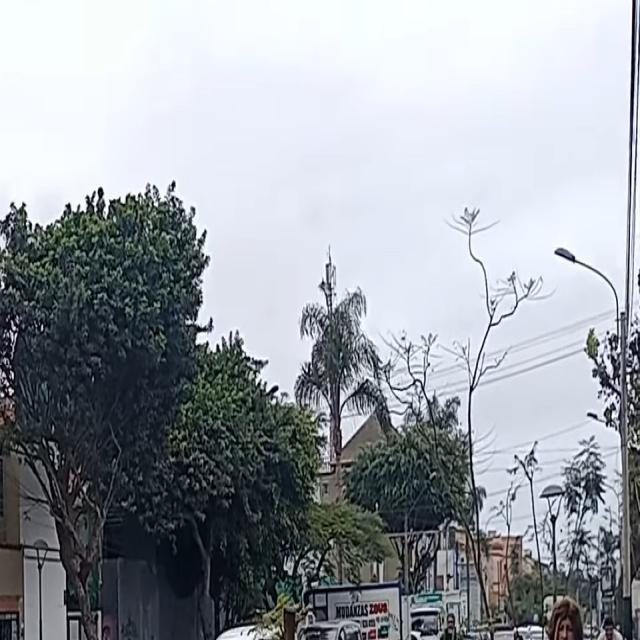car: (189, 623, 306, 640), (295, 617, 365, 640), (487, 626, 518, 640)
